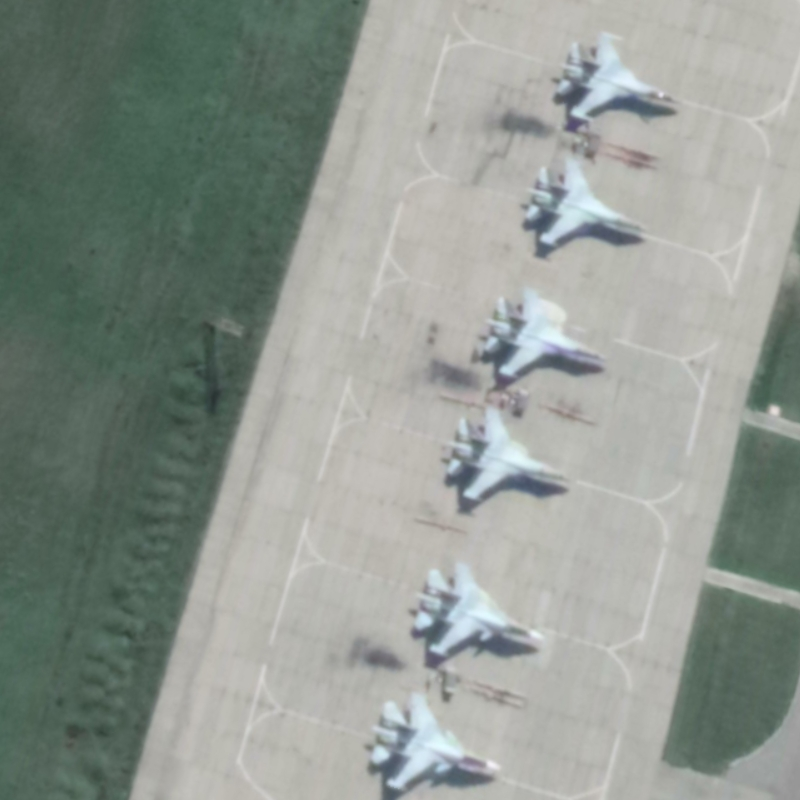A1: (439, 402, 577, 506), (477, 287, 612, 384), (520, 153, 651, 251), (552, 26, 680, 125)
A19: (368, 690, 506, 794), (410, 561, 548, 658)
